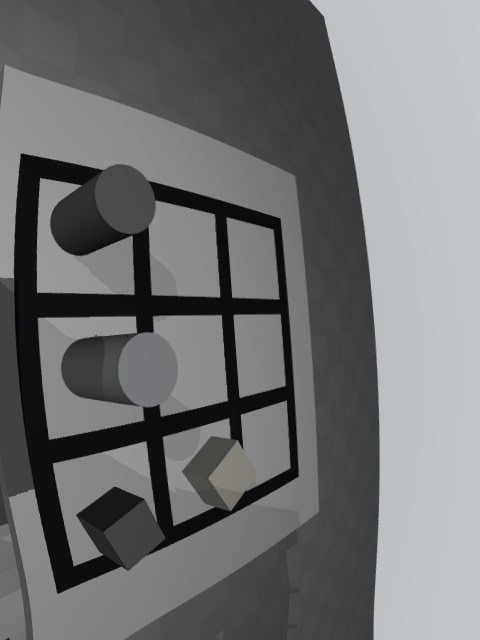can: (61, 332, 178, 408)
cube: (76, 486, 165, 571)
cylinder: (50, 164, 156, 256)
foam: (182, 436, 257, 511)
